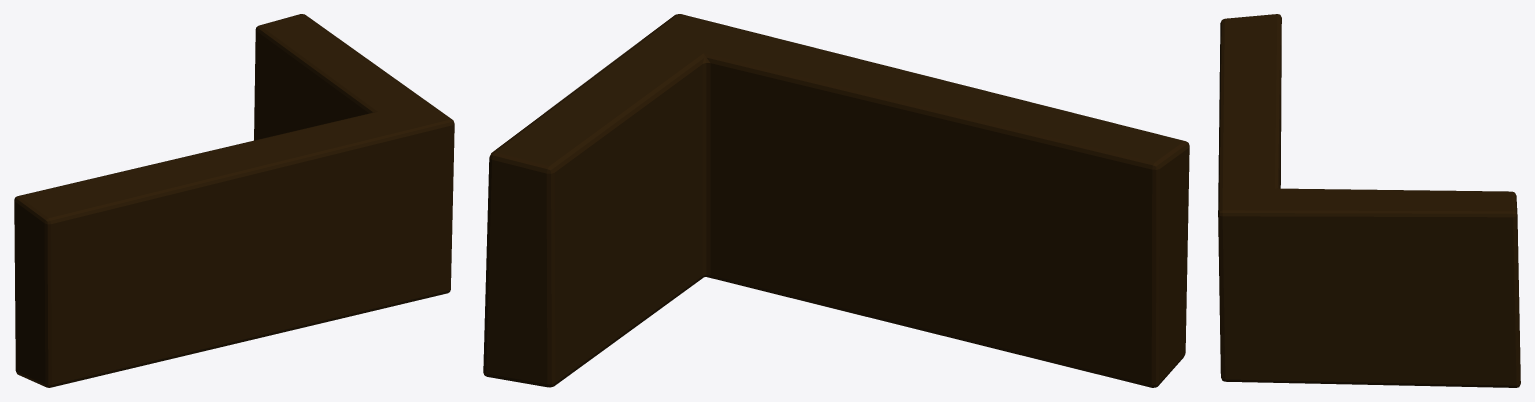
The model's file is Wall piece 9 collider.fbx.
3 views of the same model, side by side, from view 1: azimuth 30°, elevation 25°; view 2: azimuth 150°, elevation 25°; view 3: azimuth 270°, elevation 25° (orthographic). The views are drawn at different scales.
Visible parts, largest first — view 1: wall piece 9 collider; view 2: wall piece 9 collider; view 3: wall piece 9 collider.
Part boxes in pixels (x1,y1,x2,y2): wall piece 9 collider: [14, 14, 454, 387]; wall piece 9 collider: [483, 14, 1189, 387]; wall piece 9 collider: [1218, 14, 1520, 387].
Bounding box in the file's own units: 1045 × 670 × 434.
